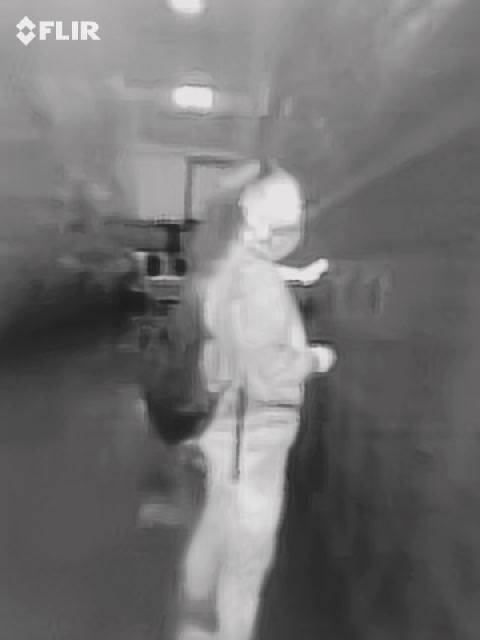head: (233, 169, 303, 259)
